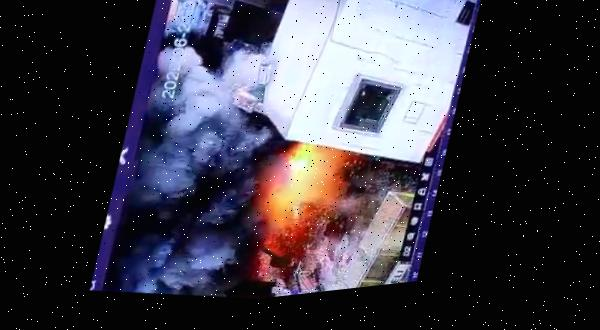fire: (208, 130, 395, 283)
